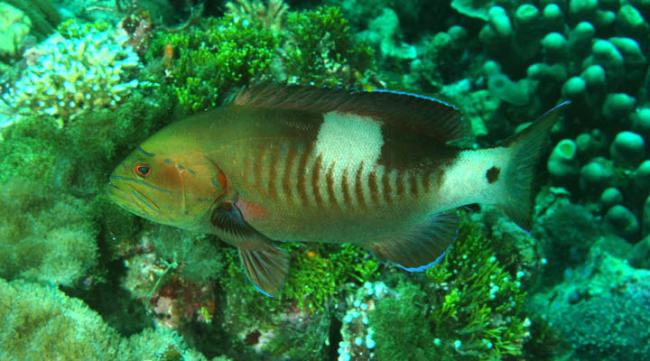fish: (105, 79, 574, 299)
